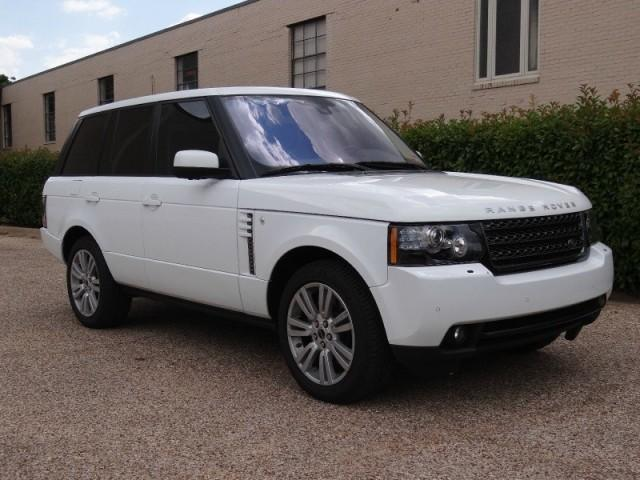range rover: (479, 195, 582, 225)
